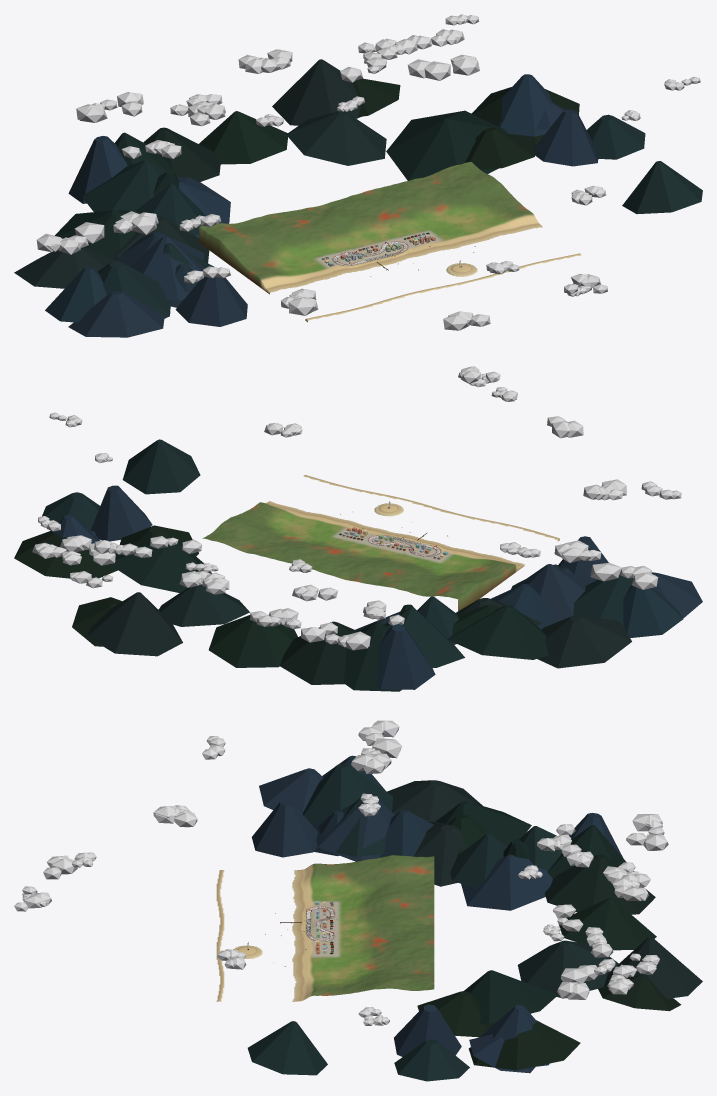
The model's file is level.glb.
3 renders of one model, top to bottom at view 1: azimuth 30°, elevation 25°; view 2: azimuth 150°, elevation 25°; view 3: azimuth 270°, elevation 25°, orthographic. The views are drawn at different scales.
Parts seen in each view (by area): view 1: backdrop, clouds, terrain_3_2, terrain_0_2, terrain_0_3, terrain_3_3, terrain_2_3, terrain_2_2, terrain_1_2, terrain_1_3, terrain_0_1, terrain_3_1 (+4 smaller); view 2: backdrop, clouds, terrain_0_3, terrain_3_3, terrain_1_3, terrain_0_2, terrain_3_2, terrain_2_3, terrain_2_2, terrain_1_2, props, terrain_0_1 (+2 smaller); view 3: backdrop, clouds, terrain_0_3, terrain_0_2, terrain_1_3, terrain_2_3, terrain_2_2, terrain_1_2, terrain_3_3, terrain_3_2, terrain_0_1, terrain_3_1 (+3 smaller).
Part boxes in pixels (x1,y1,x2,y2): backdrop: (14,59,702,337); clouds: (36,14,700,330); terrain_3_2: (432,183,528,232); terrain_0_2: (228,238,324,284); terrain_0_3: (199,215,295,263); terrain_3_3: (404,162,500,206); terrain_2_3: (336,182,432,223); terrain_2_2: (365,206,460,247); terrain_1_2: (296,223,388,265); terrain_1_3: (267,201,363,238); terrain_0_1: (257,265,337,294); terrain_3_1: (462,210,542,242); backdrop: (14,439,702,691); clouds: (32,366,681,650); terrain_0_3: (394,570,485,611); terrain_3_3: (202,518,292,556); terrain_1_3: (330,556,420,587); terrain_0_2: (422,556,512,594); terrain_3_2: (230,504,319,540); terrain_2_3: (266,540,356,574); terrain_2_2: (294,525,384,556); terrain_1_2: (358,540,448,570); props: (339,501,448,559); terrain_0_1: (449,549,524,574); backdrop: (247,755,702,1081); clouds: (14,720,668,1025); terrain_0_3: (377,855,434,895); terrain_0_2: (319,858,376,901); terrain_1_3: (377,893,434,930); terrain_2_3: (377,929,434,963); terrain_2_2: (319,930,376,967); terrain_1_2: (319,896,376,934); terrain_3_3: (377,959,434,990); terrain_3_2: (319,963,376,995); terrain_0_1: (292,863,319,903); terrain_3_1: (292,968,319,1001).
Size of the model in its own units: 3088 by 414 by 2834.
